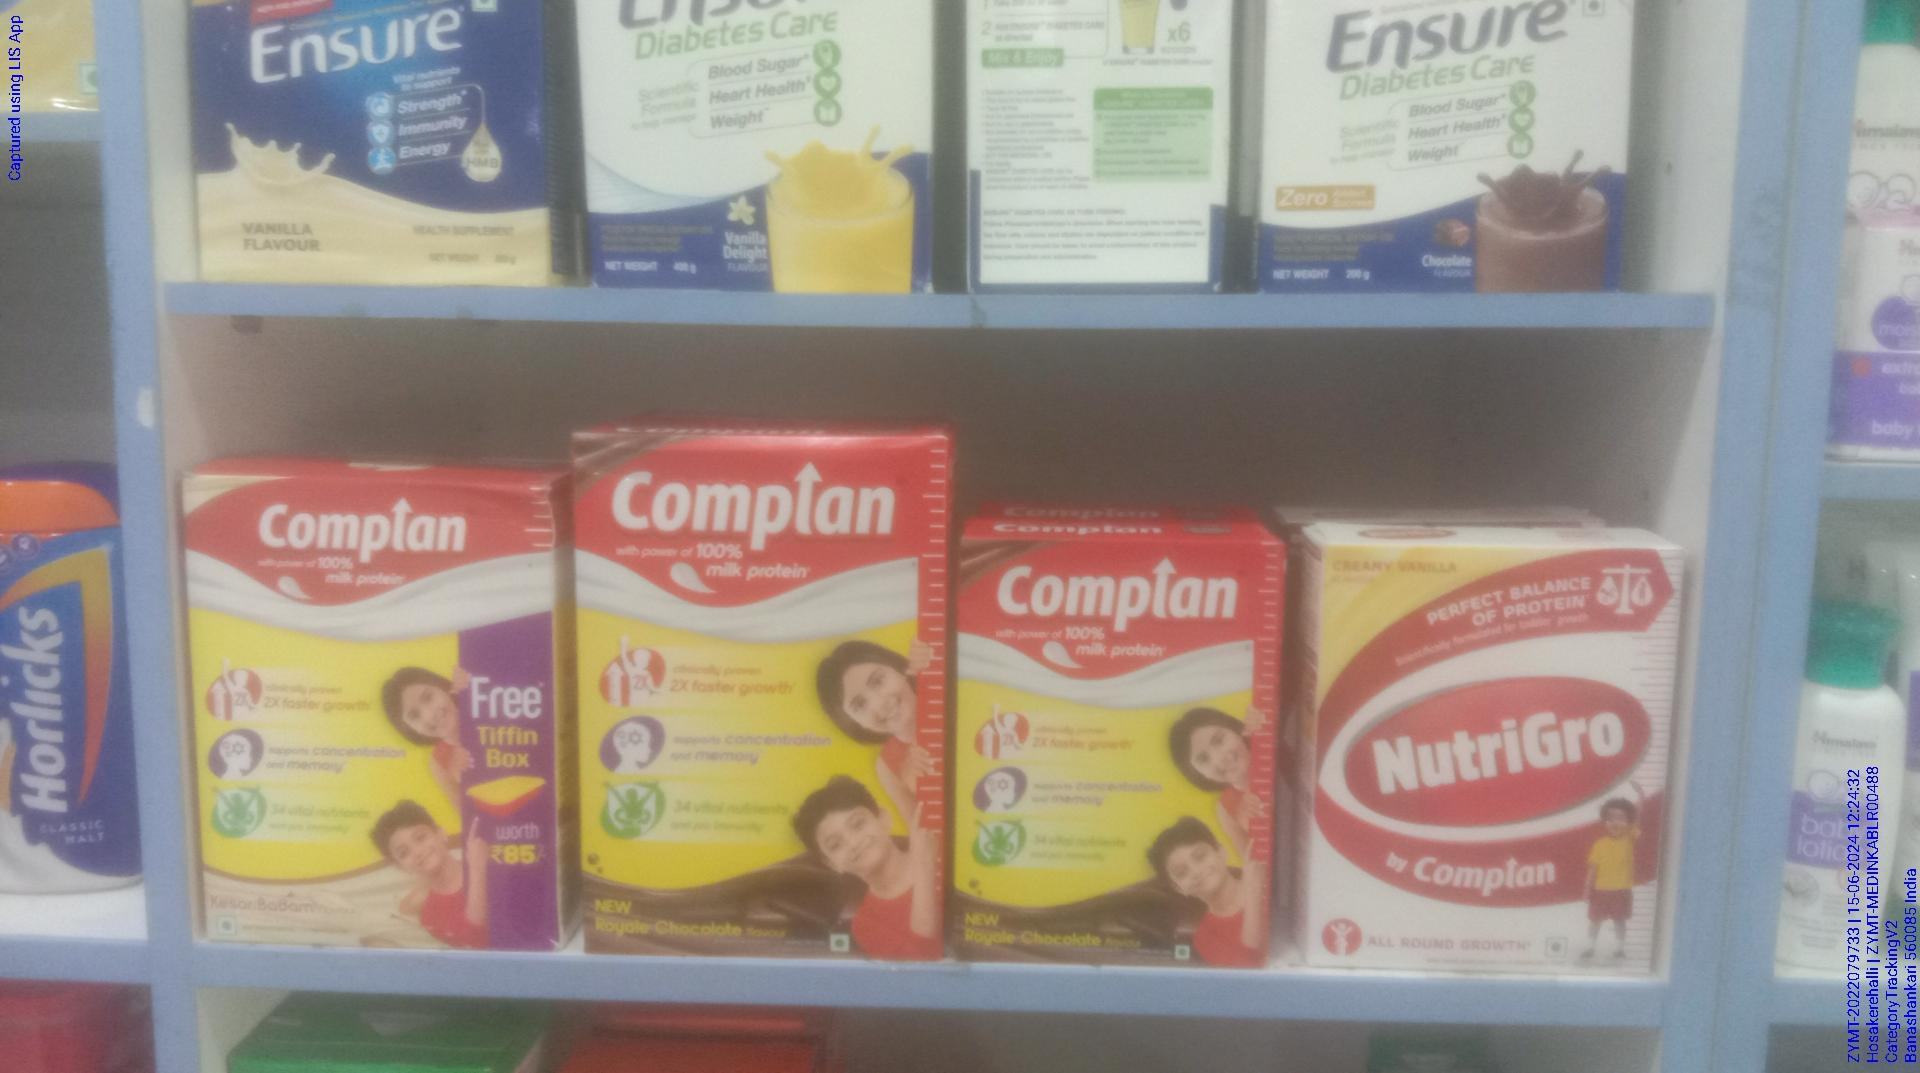COMPLAN_CHOCOLATE_200_GMS_PACK: (964, 539, 1271, 966)
COMPLAN_CHOCOLATE_500_GMS_PACK: (570, 431, 952, 960)
COMPLAN_KESAR_BADAM_500_GMS_PACK: (186, 477, 559, 953)
